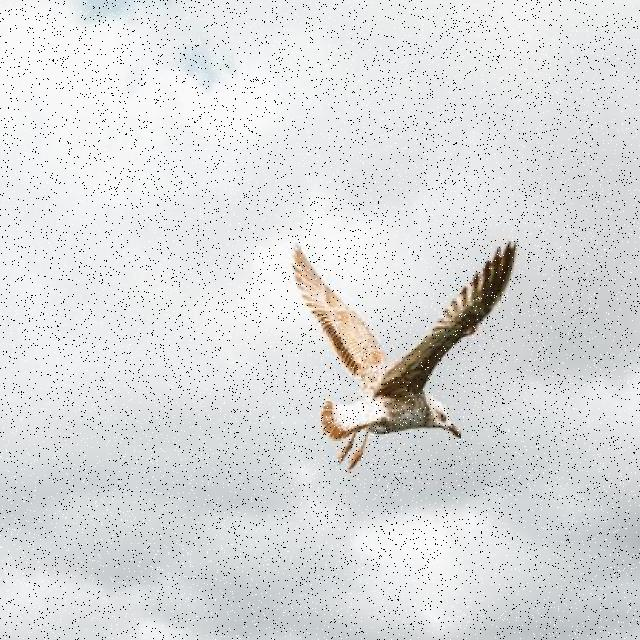bird: (293, 243, 518, 472)
